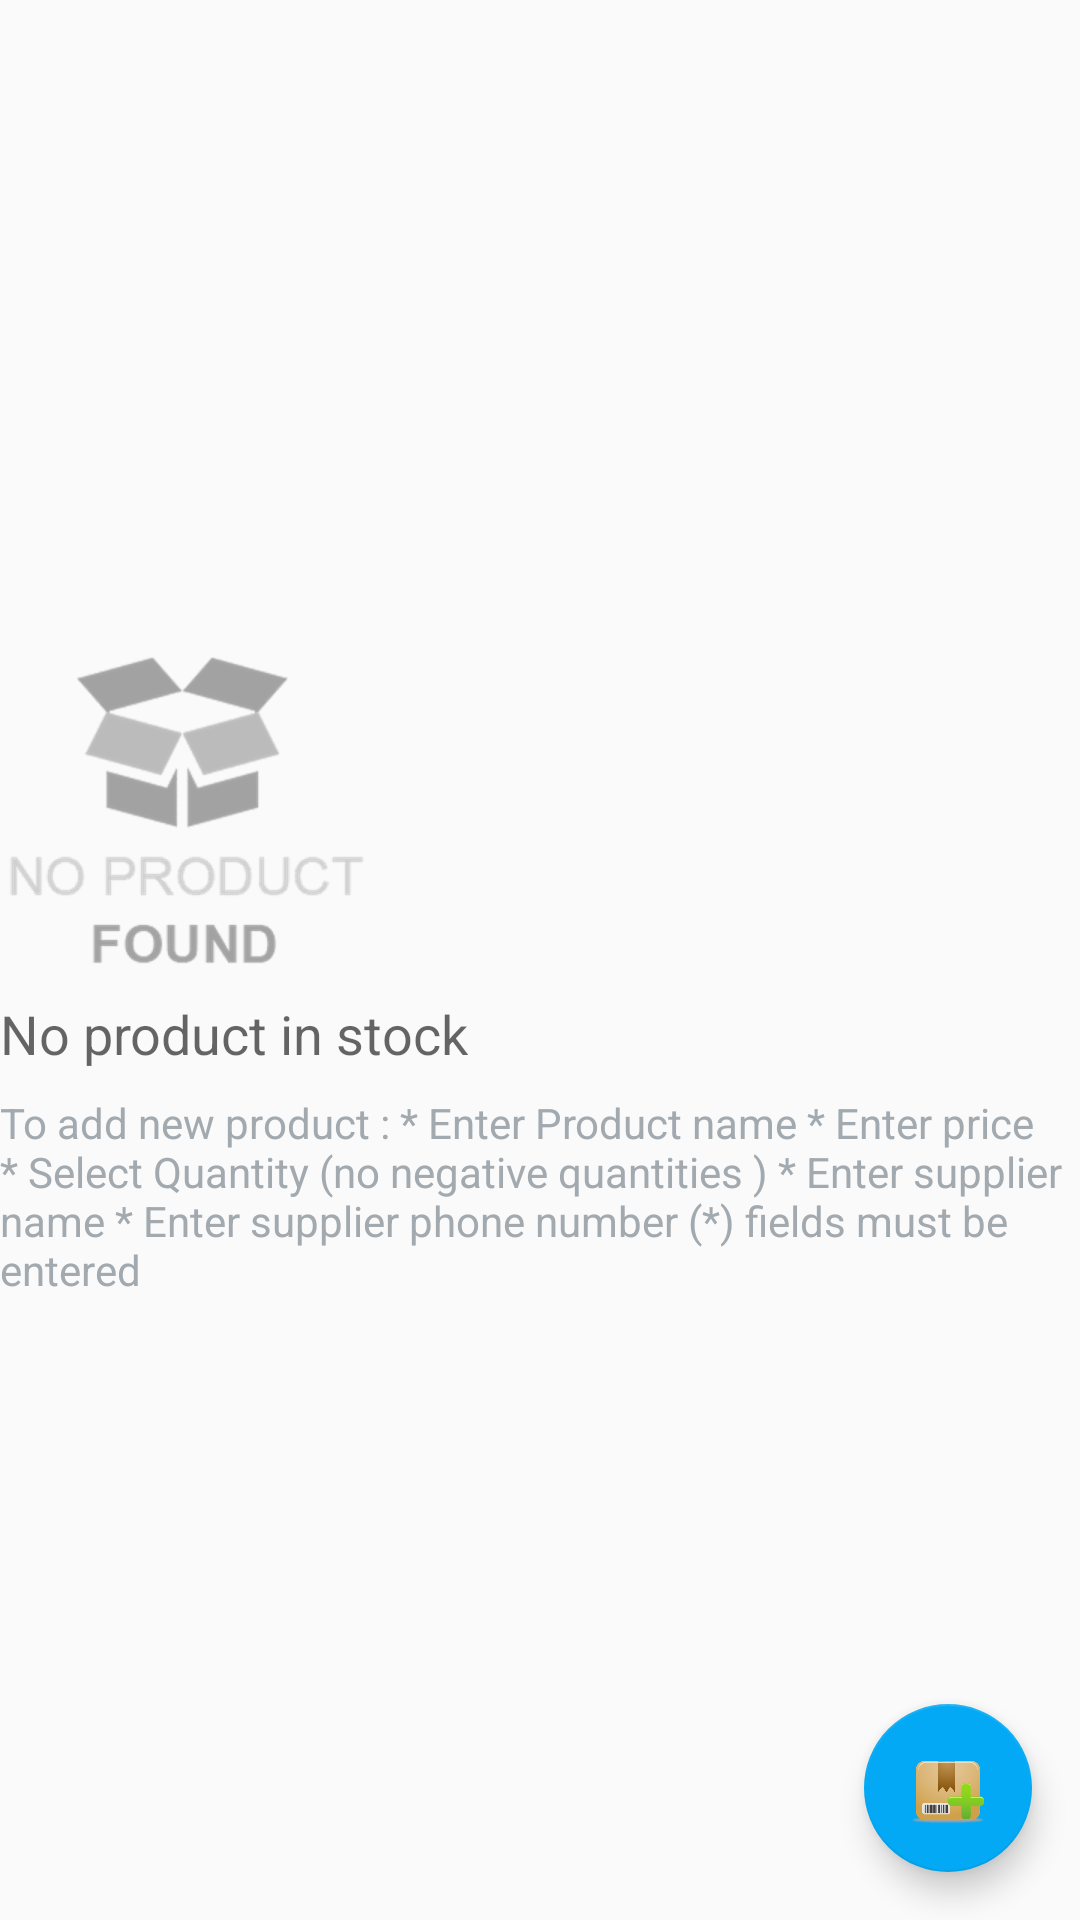

Screen size 1080x1920. Icon name, then its box in pixels as bbox=[x1, y1, x2, y2]:
add inventory: bbox=[864, 1704, 1032, 1872]
